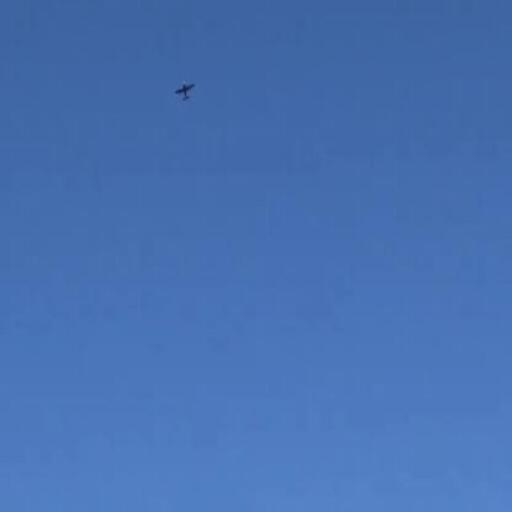aircraft: (174, 82, 196, 100)
